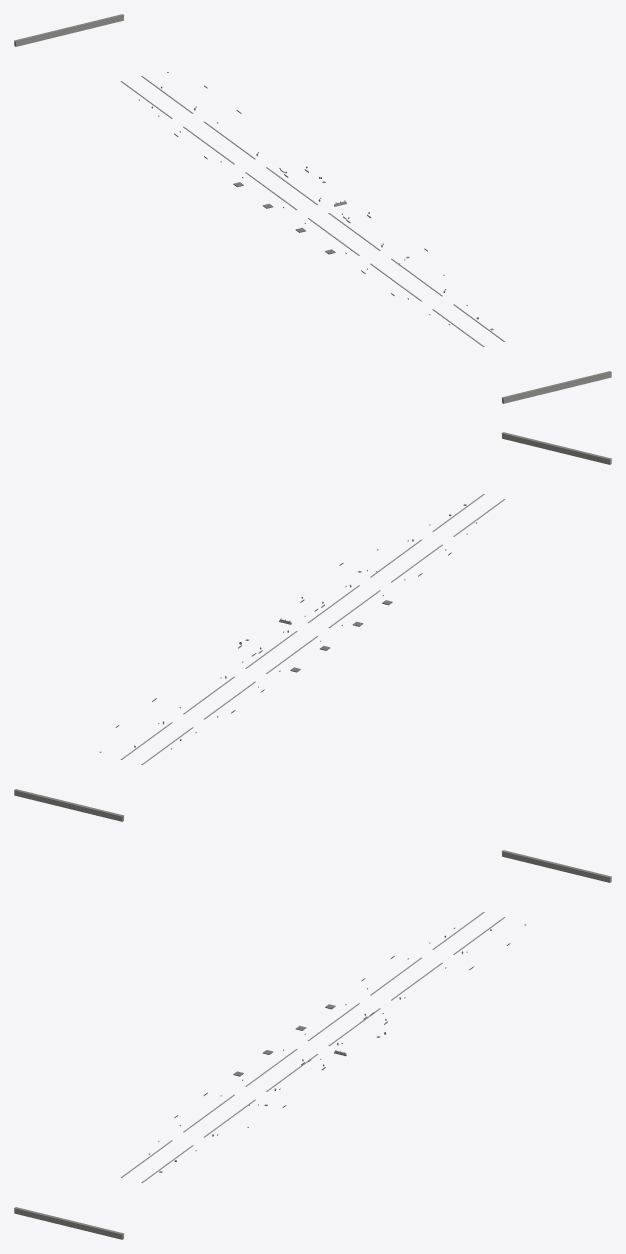
File: city_cell_1_0.glb
The picture shows the model from 3 angles, top to bottom: view 1: azimuth 30°, elevation 25°; view 2: azimuth 150°, elevation 25°; view 3: azimuth 330°, elevation 25°; orthographic projection.
Visible parts, largest first — view 1: Cube.013; view 2: Cube.013; view 3: Cube.013.
Boxes of the visible parts, x1=… form: Cube.013: x1=14, y1=14, x2=611, y2=403; Cube.013: x1=14, y1=432, x2=611, y2=821; Cube.013: x1=14, y1=850, x2=611, y2=1239.
Size of the model in its own units: 55.3 by 4.06 by 432.
